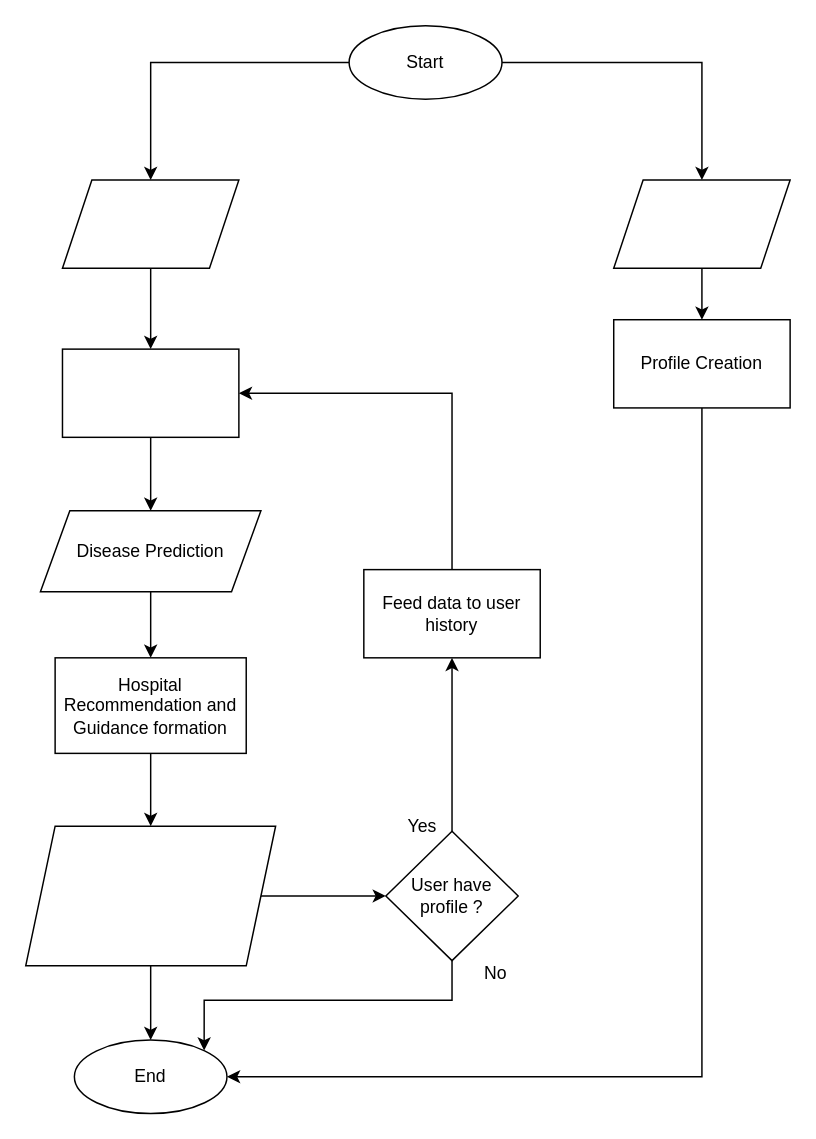
The diagram is 816 pixels wide and 1139 high, and some of its shapes have lost their labels. The shapes that lost their labels are listed below. From the top down, each one's centre as x and y in pixels, then its label:
At [150,223]: "User Input - Symptoms - Lab results".
At [701,223]: "User Input - Profile Information".
At [150,392]: "Data processing".
At [150,895]: "Display Result - Health risk summary - Hospital suggestion - Actionable advice".
